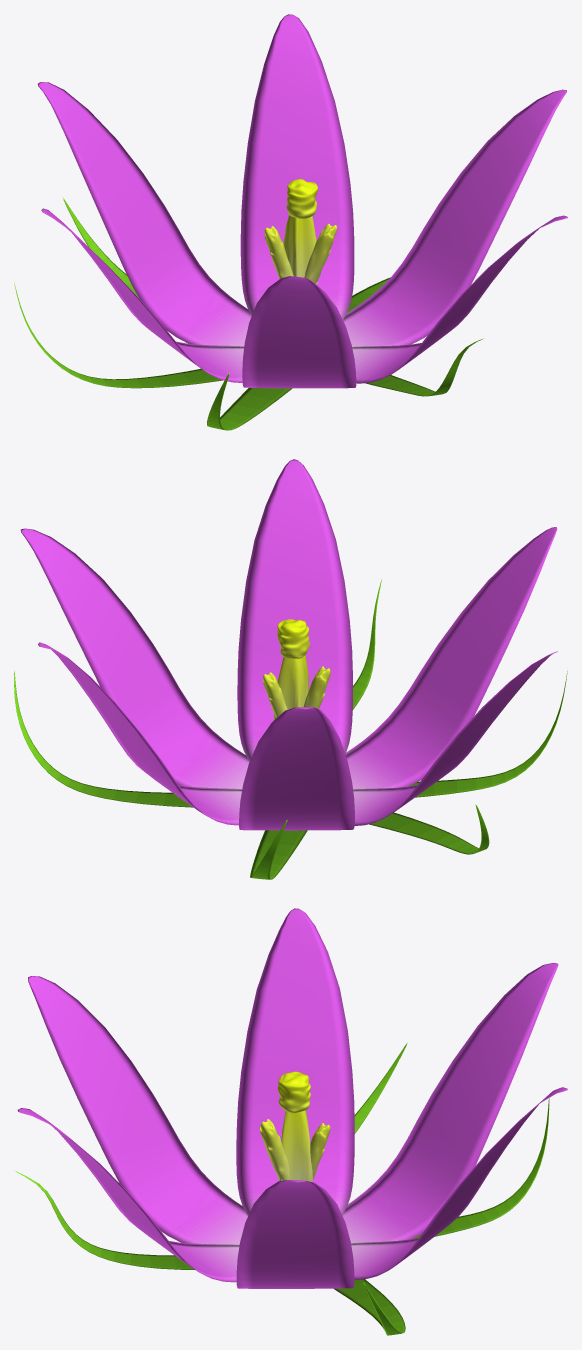
The model's file is SM_Purp_02.fbx.
The picture shows the model from 3 angles, top to bottom: view 1: azimuth 30°, elevation 25°; view 2: azimuth 150°, elevation 25°; view 3: azimuth 270°, elevation 25°; orthographic projection. The views are drawn at different scales.
Visible parts, largest first — view 1: Cube; view 2: Cube; view 3: Cube.
Boxes of the visible parts, x1,y1,x2,y2 form: Cube: (14, 14, 567, 430); Cube: (14, 459, 567, 879); Cube: (15, 908, 567, 1335).
Size of the model in its own units: 10.55 by 4.16 by 9.26.
